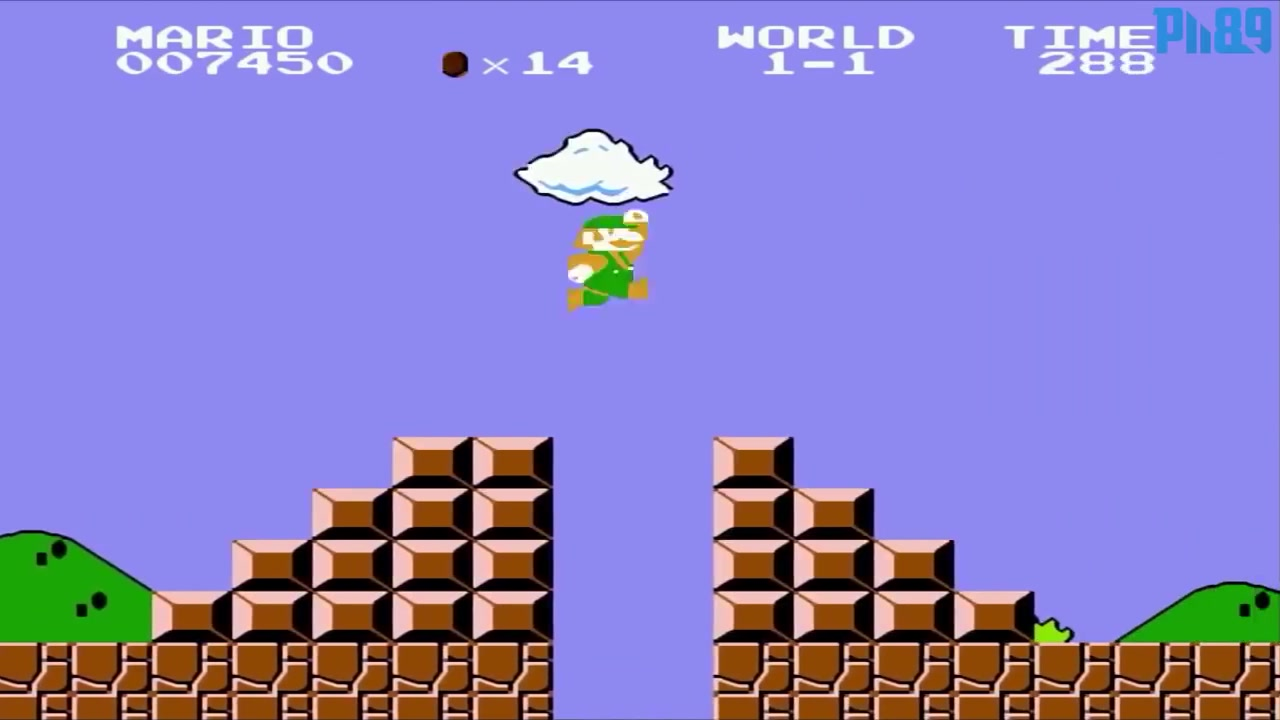mario: (564, 201, 661, 331)
